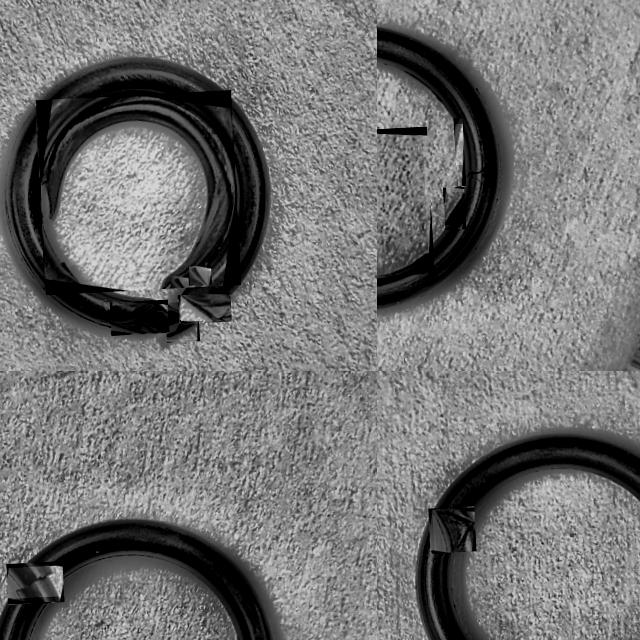切割缺陷: (432, 509, 475, 552), (111, 304, 169, 333), (180, 295, 231, 322), (467, 155, 490, 178)
挤压缺陷: (8, 566, 63, 599), (166, 303, 198, 340)
裂纹: (40, 95, 235, 289), (404, 71, 442, 102), (445, 192, 465, 225), (189, 266, 207, 285), (455, 124, 463, 165), (456, 173, 459, 186), (456, 167, 457, 172)
